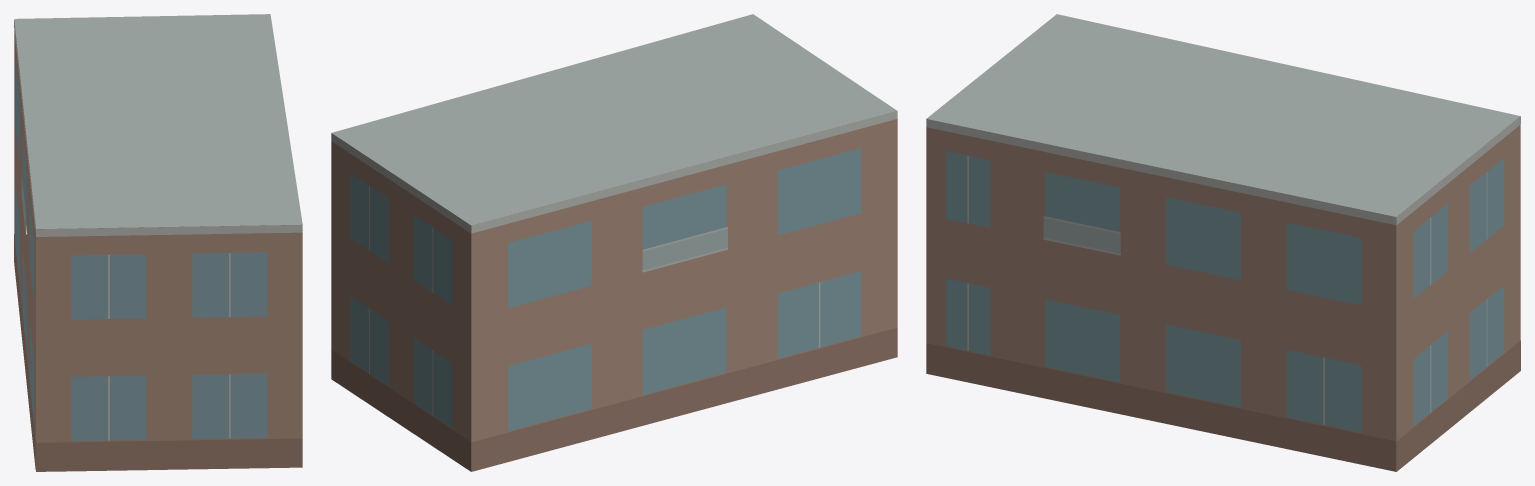
Rendered from survey-upis-32655190.glb.
The picture shows the model from 3 angles, left to right: view 1: azimuth 30°, elevation 25°; view 2: azimuth 150°, elevation 25°; view 3: azimuth 270°, elevation 25°; orthographic projection. The views are drawn at different scales.
Visible parts, largest first — view 1: survey-upis-32655190.tmp; view 2: survey-upis-32655190.tmp; view 3: survey-upis-32655190.tmp.
Part boxes in pixels (<box>): survey-upis-32655190.tmp: <box>14,14,302,471</box>; survey-upis-32655190.tmp: <box>331,14,897,471</box>; survey-upis-32655190.tmp: <box>926,14,1520,471</box>.
Bounding box in the file's own units: 12.83 × 7.5 × 15.87.
